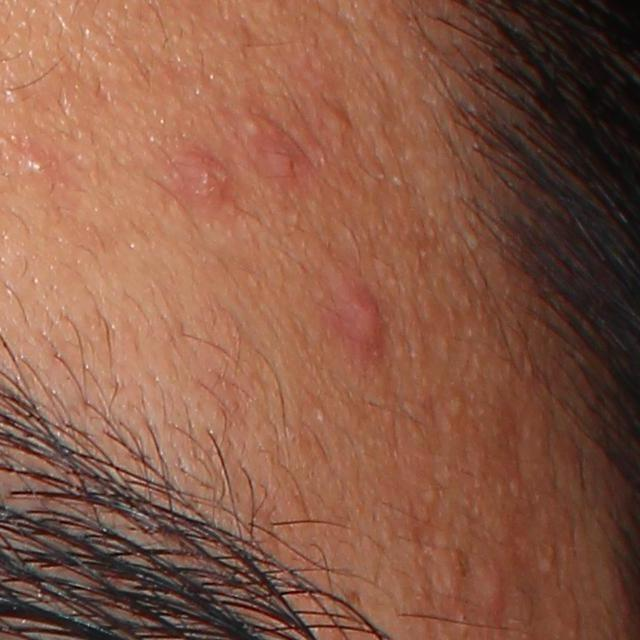papule: (336, 276, 390, 351), (177, 145, 235, 209), (469, 557, 516, 624), (259, 124, 301, 179)
